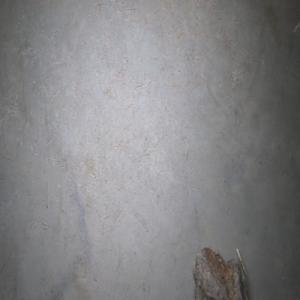Rock: (192, 247, 248, 300)
